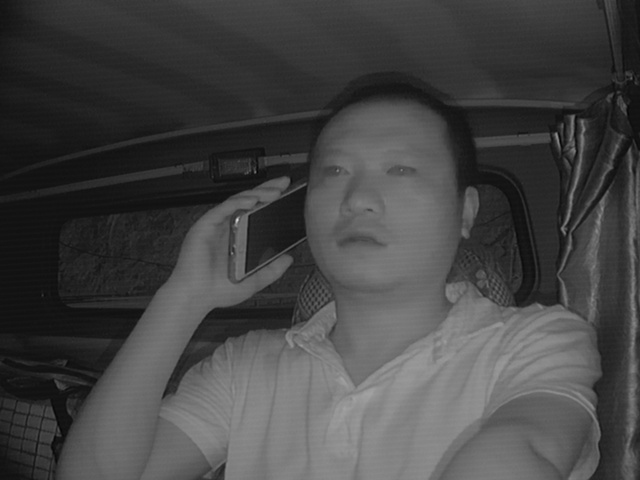hand: (177, 177, 292, 300)
